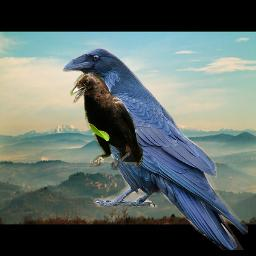Crow: (60, 46, 248, 250), (70, 72, 143, 170)
